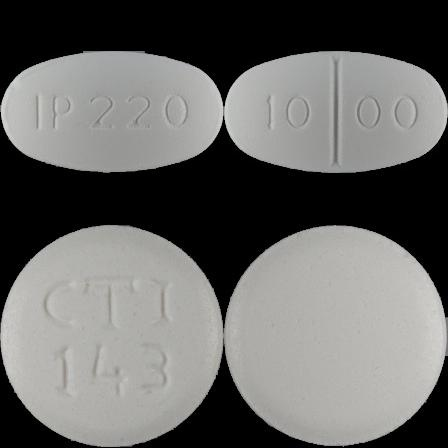43063-544: (0, 0, 224, 224)
